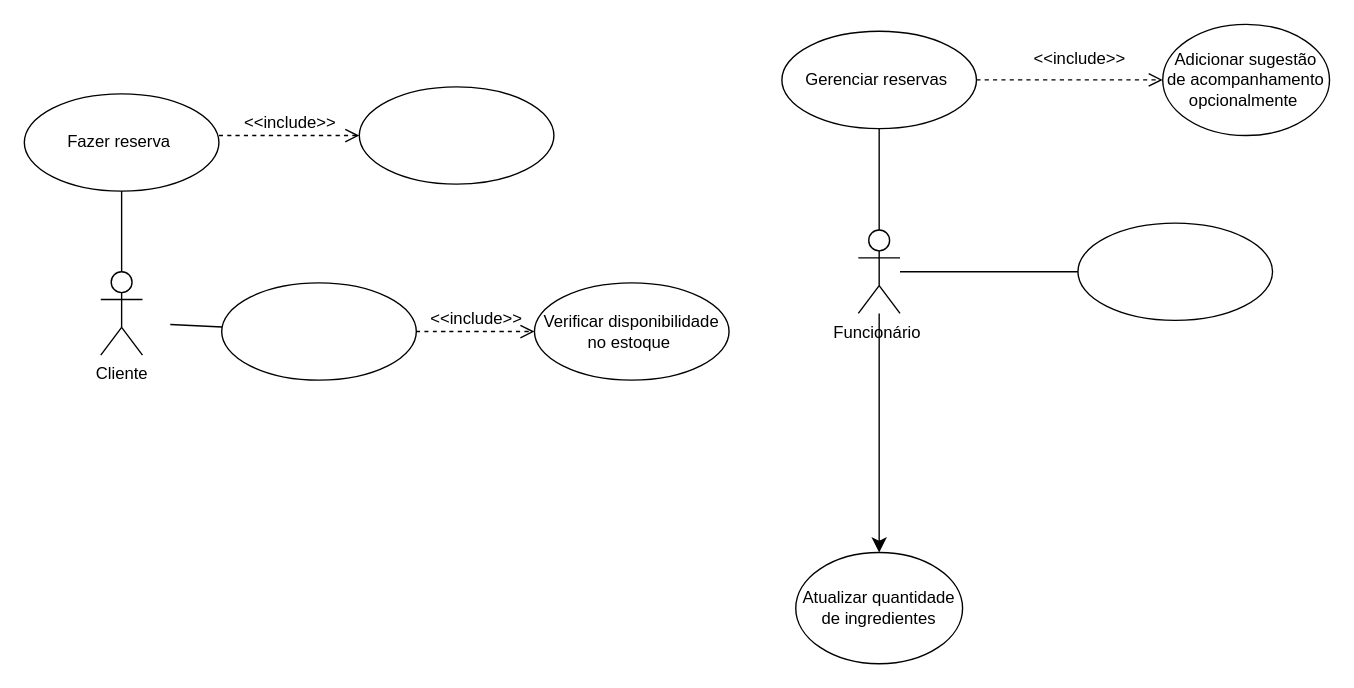
Image size: 1354x688. Some labels were removed from this diagram. The shapes that lost their labels are listed below. From the top down, each one's centre as x and y in pixels, then its label:
the point at 456,134: Verificar disponibilidade de mesas
the point at 1175,271: Controlar estoque
the point at 318,330: Fazer pedidos
